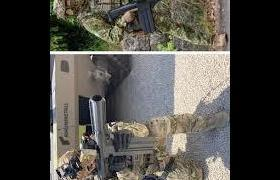gun: (87, 93, 162, 180), (106, 0, 186, 34)
